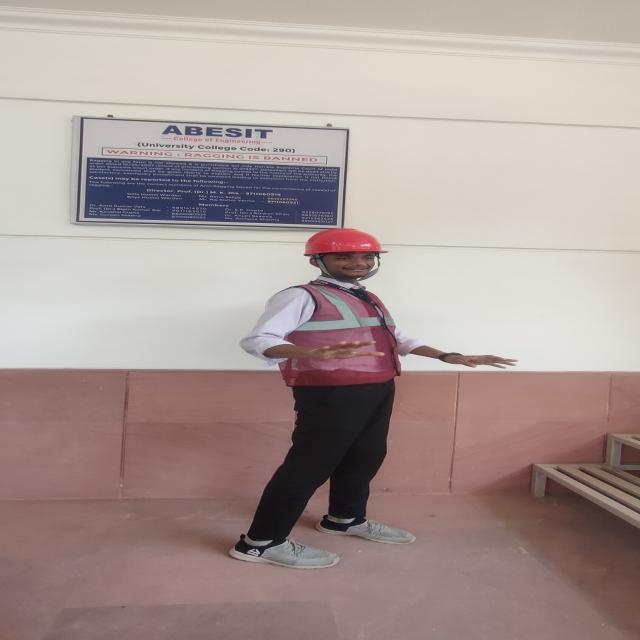safe: (265, 228, 401, 568)
